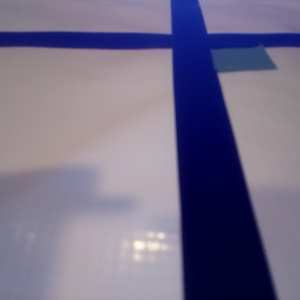bottom_right: (173, 33, 278, 71)
